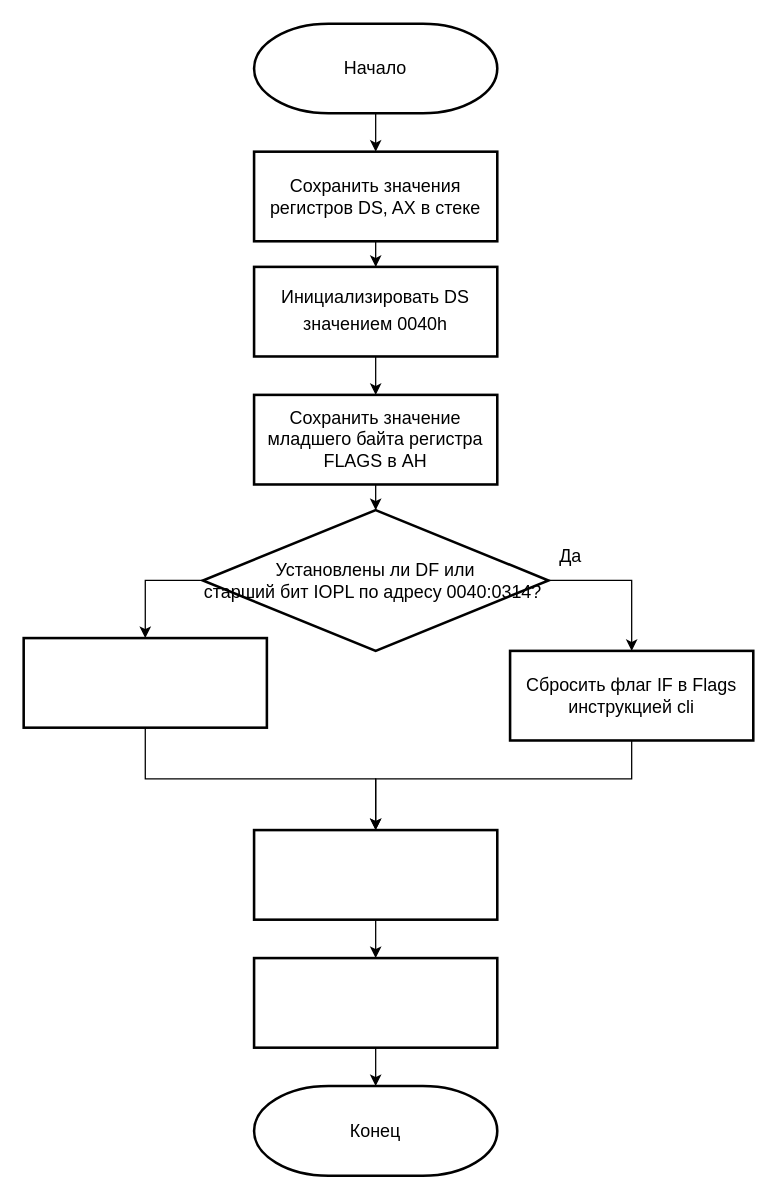
Image size: 776x1198. Some labels were removed from this diagram. Each missing label, with the centre of its shape:
Восстановить значение младшего байта регистра FLAGS из AH: (375,874)
Восстановить значения регистров AX, DS из стека: (375,1002)
Сбросить флаг IF по адресу 0040:0314 обнулением 9 бита: (145,682)
